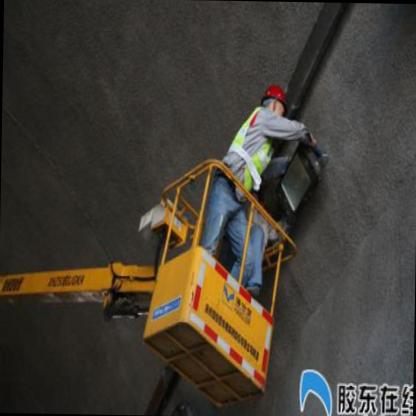helmet: (262, 83, 293, 118)
